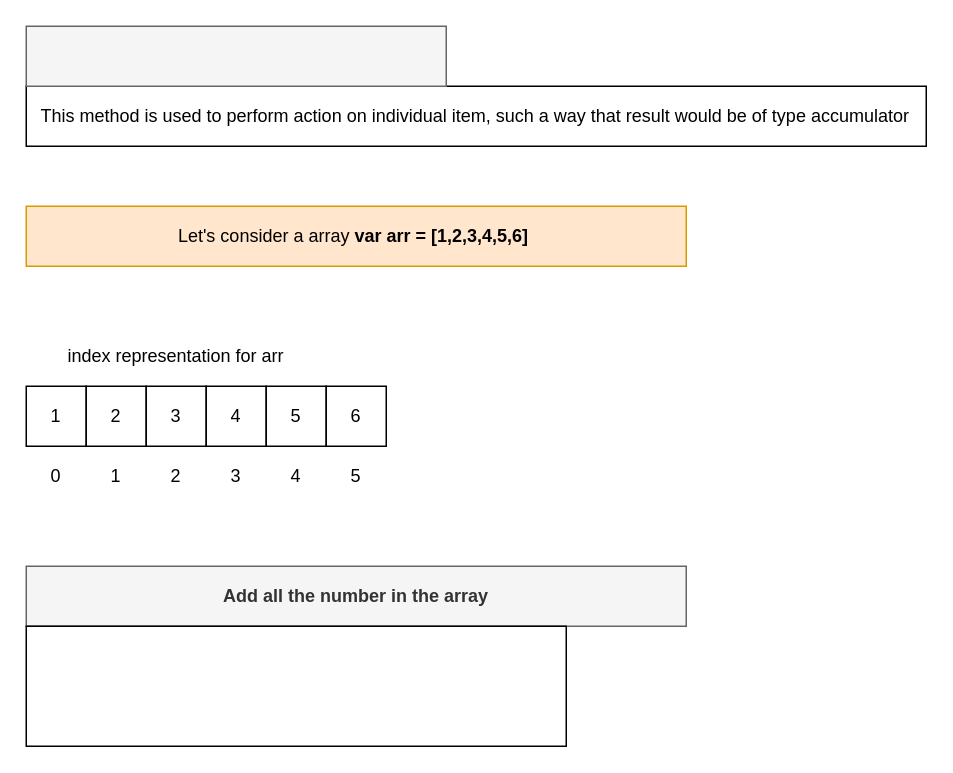
This 953x773 diagram has some shape labels left out. Here are the shapes that lost their labels. From the top down, the box of each, then its label:
(25, 25, 446, 86): What are array reduce?
(25, 625, 566, 746): var sum = arr.reduce(function(acc, item) { acc += item; return acc; }, 0);
